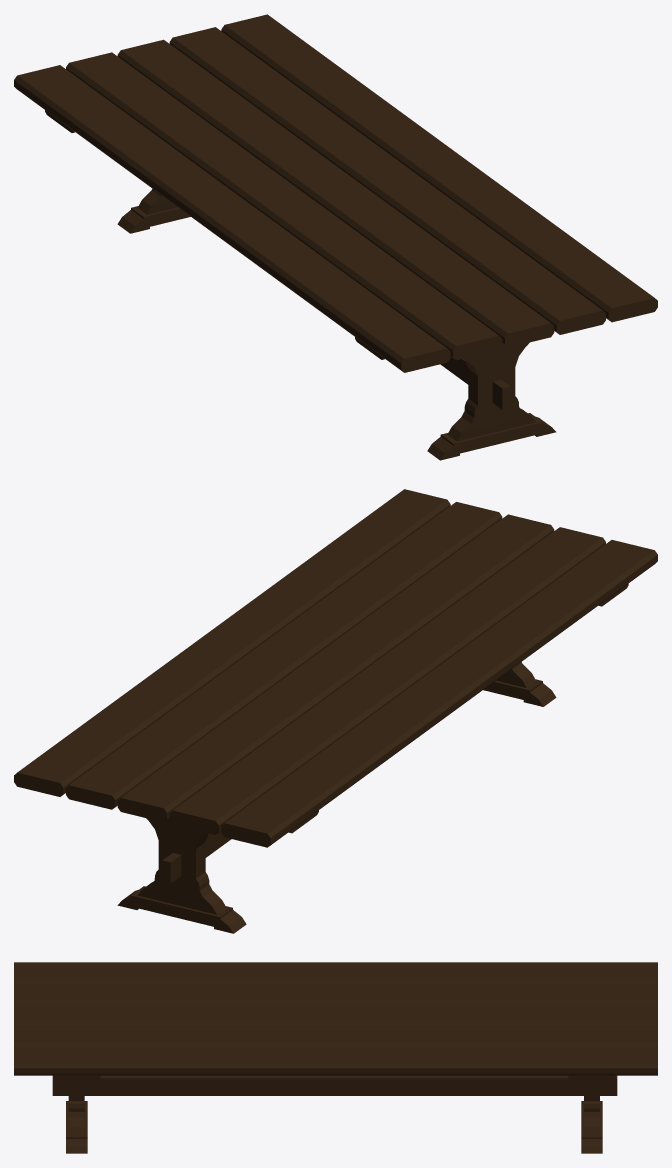
Rendered from Table_002.fbx.
3 renders of one model, top to bottom at view 1: azimuth 30°, elevation 25°; view 2: azimuth 150°, elevation 25°; view 3: azimuth 270°, elevation 25°, orthographic. The views are drawn at different scales.
Visible parts, largest first — view 1: table_002; view 2: table_002; view 3: table_002.
Part boxes in pixels (left/top/right/bottom): table_002: left=14, top=14, right=657, bottom=460; table_002: left=14, top=489, right=657, bottom=933; table_002: left=14, top=962, right=657, bottom=1153.
Bounding box in the file's own units: 180 × 94.55 × 471.
